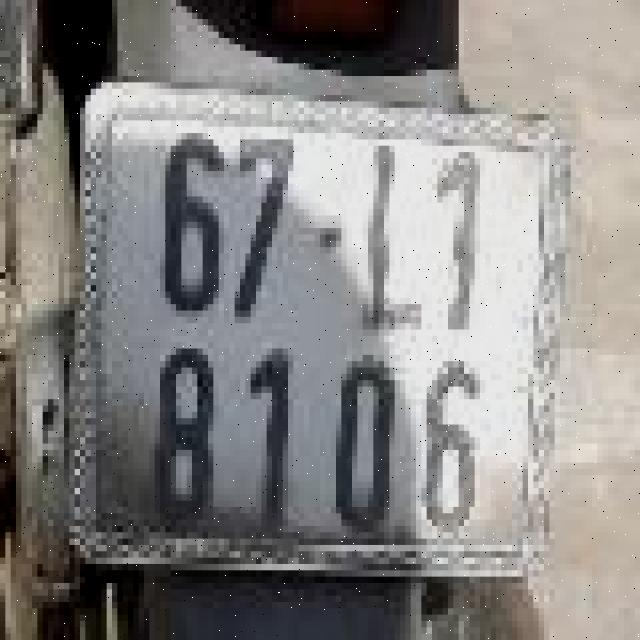0: (326, 352, 406, 542)
1: (421, 126, 491, 348), (250, 339, 298, 548)
6: (152, 127, 227, 317), (413, 352, 483, 542)
7: (234, 120, 298, 324)
8: (136, 326, 227, 548)
L: (338, 139, 418, 355)
